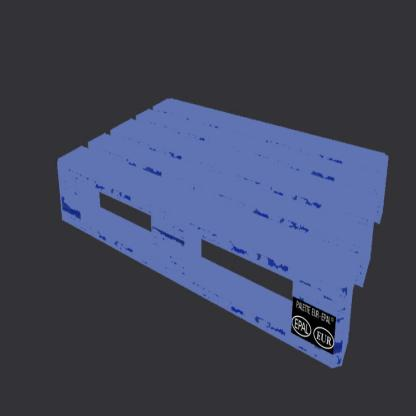BoxFace: (54, 90, 393, 376)
